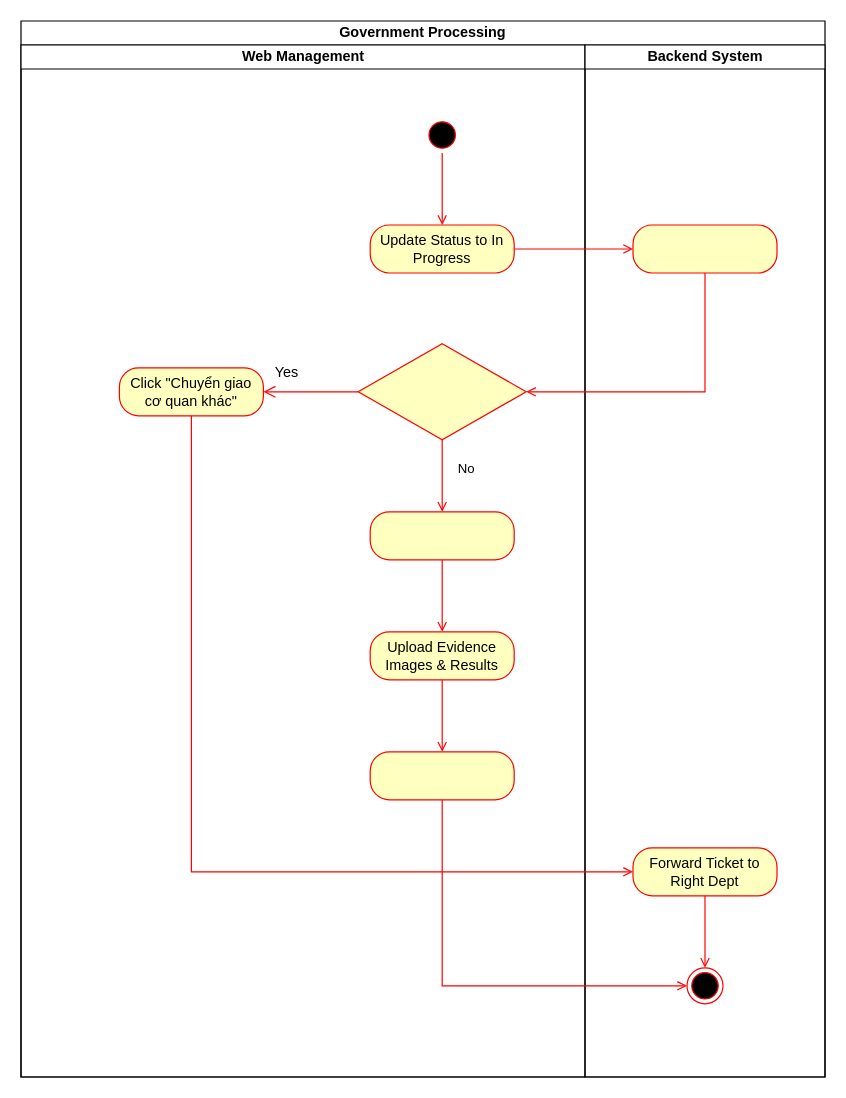
Some shapes in this 846 by 1098 pixel diagram are drawn without their labels. Each missing label, with the centre of its shape:
Input Progress Chat / Update: (x=441, y=535)
Message: "Đang xử lý": (x=704, y=248)
Phát hiện vượt thẩm quyền?: (x=441, y=391)
Update Status to Resolved: (x=441, y=775)
